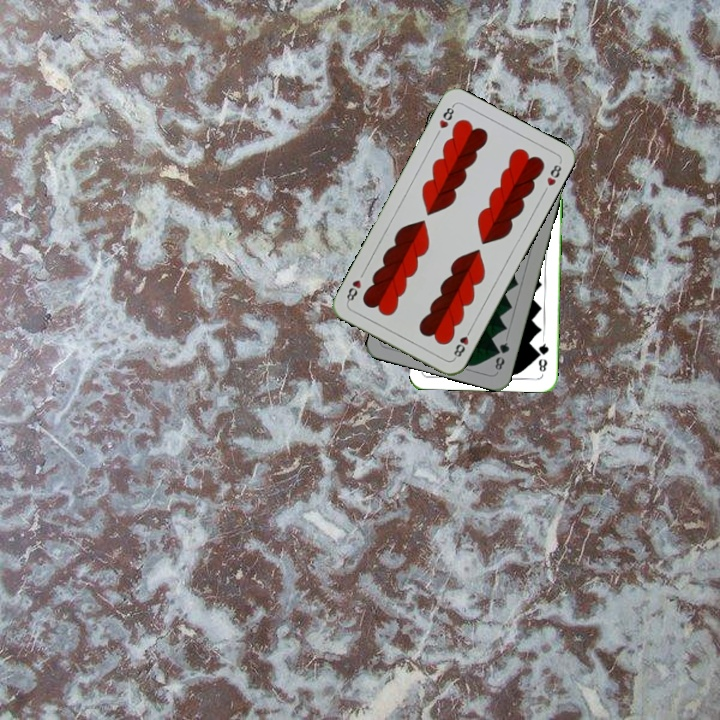G8: (491, 338, 512, 373), (534, 335, 551, 374)
H8: (449, 324, 474, 362), (435, 101, 457, 131)
